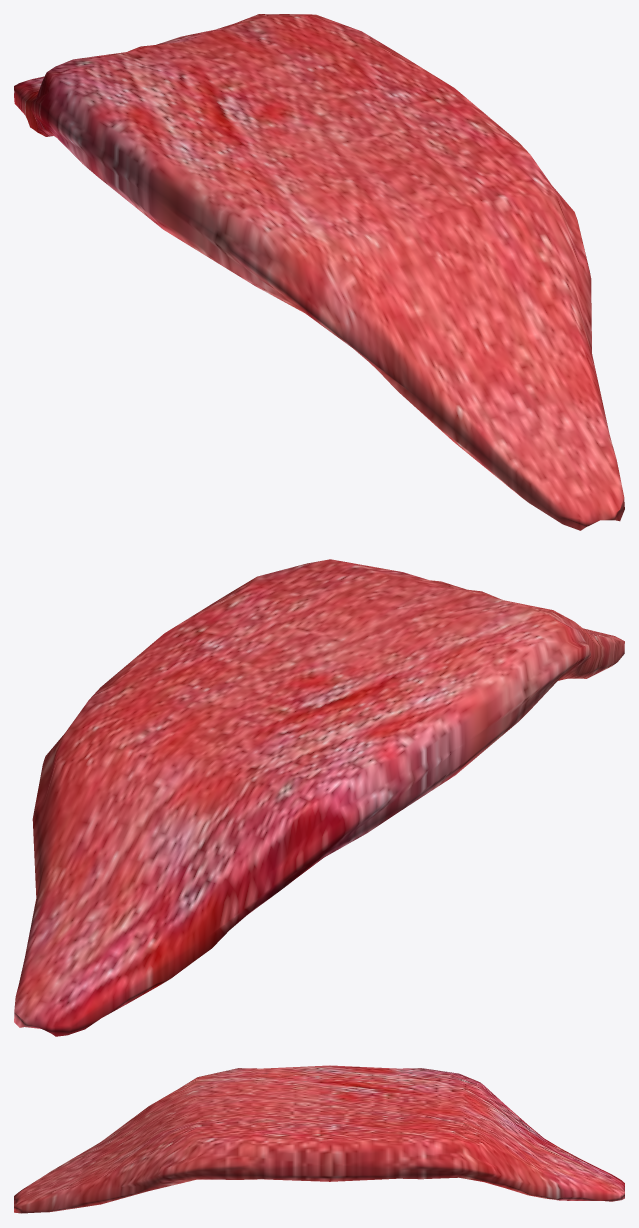
File: tuna.fbx
The picture shows the model from 3 angles, top to bottom: view 1: azimuth 30°, elevation 25°; view 2: azimuth 150°, elevation 25°; view 3: azimuth 270°, elevation 25°; orthographic projection. The views are drawn at different scales.
Parts seen in each view (by area): view 1: pCube1; view 2: pCube1; view 3: pCube1.
Part boxes in pixels (bbox=[...]): pCube1: bbox=[14, 14, 624, 530]; pCube1: bbox=[14, 559, 624, 1036]; pCube1: bbox=[14, 1065, 624, 1213].
Bounding box in the file's own units: 1.34 × 0.7914 × 4.17.
Materials: 1 (1 with a texture image).
